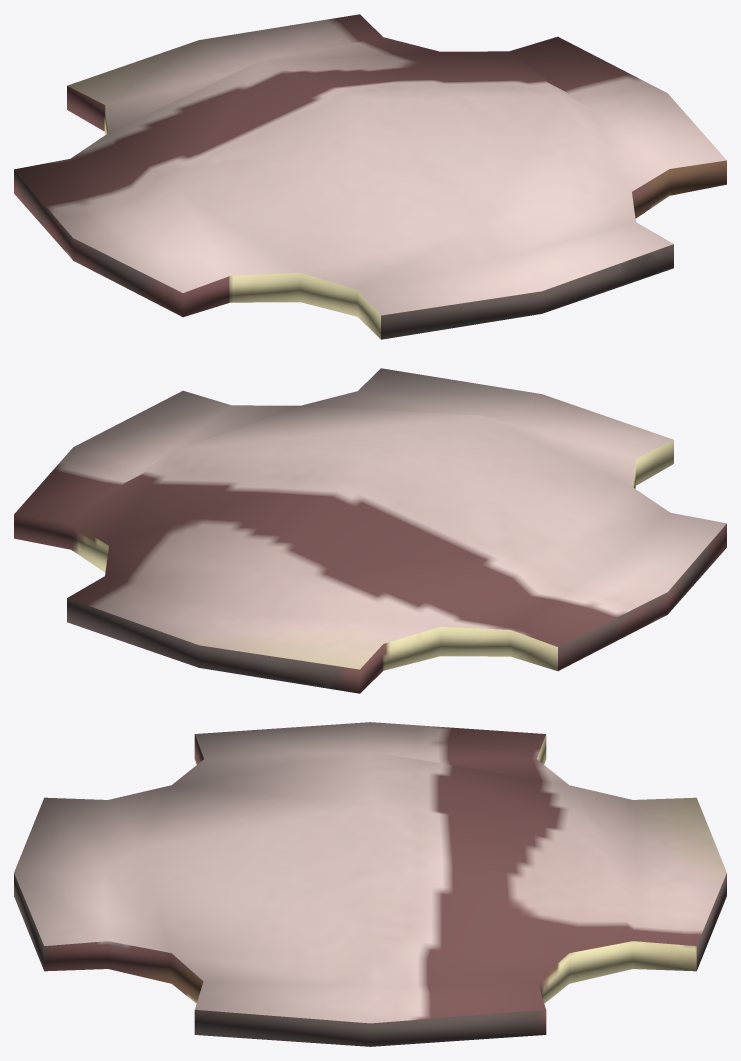
The model's file is FBX_Character_Shield.fbx.
3 renders of one model, top to bottom at view 1: azimuth 30°, elevation 25°; view 2: azimuth 150°, elevation 25°; view 3: azimuth 270°, elevation 25°, orthographic. The views are drawn at different scales.
Visible parts, largest first — view 1: MSH_Character_Shield; view 2: MSH_Character_Shield; view 3: MSH_Character_Shield.
Boxes of the visible parts, left/top/right/bottom form: MSH_Character_Shield: left=14, top=14, right=726, bottom=339; MSH_Character_Shield: left=14, top=368, right=726, bottom=693; MSH_Character_Shield: left=14, top=722, right=726, bottom=1046.
Size of the model in its own units: 64.12 by 9.96 by 64.12.
